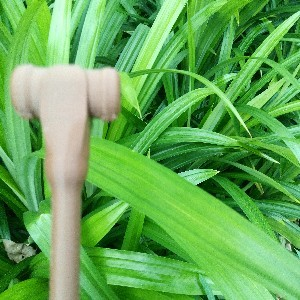palu: (10, 64, 121, 300)
